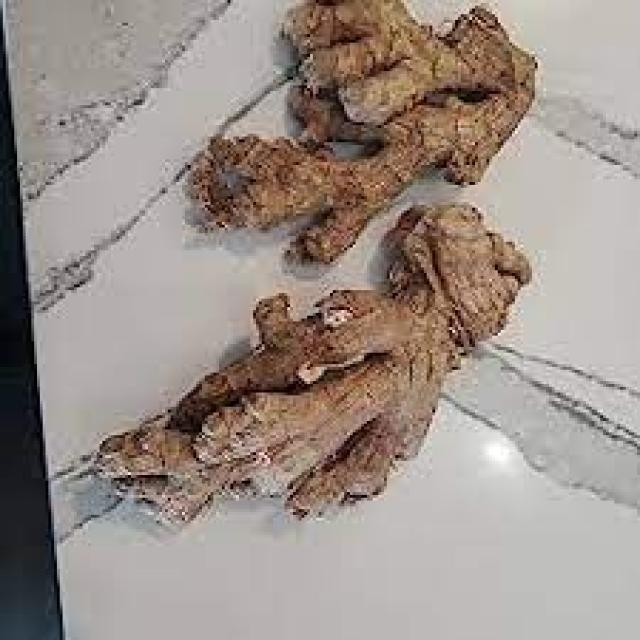ginger: (92, 282, 506, 530), (185, 12, 548, 234)
